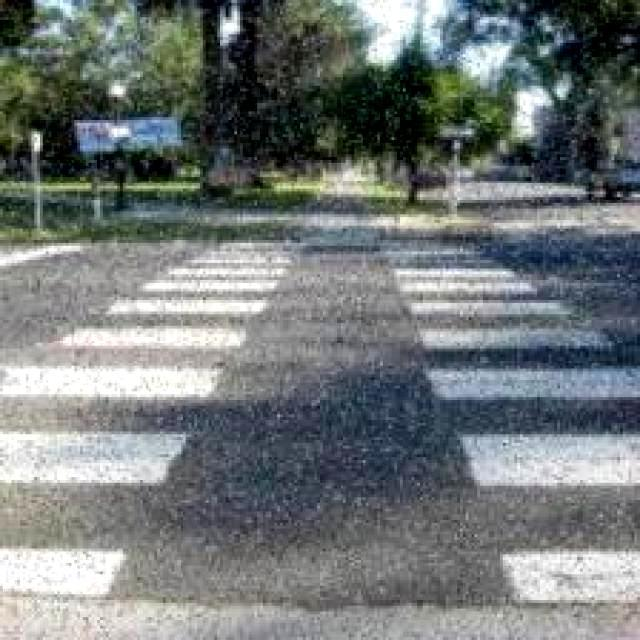crosswalk: (0, 227, 306, 619), (385, 224, 639, 617)
